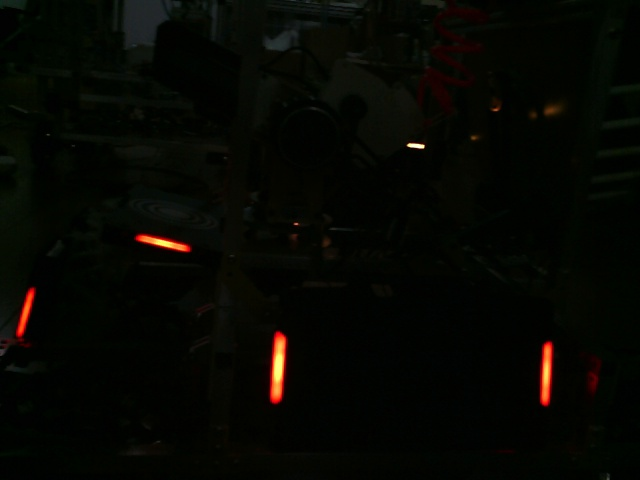lamp: (267, 330, 289, 405), (538, 338, 553, 407), (20, 287, 38, 344)
